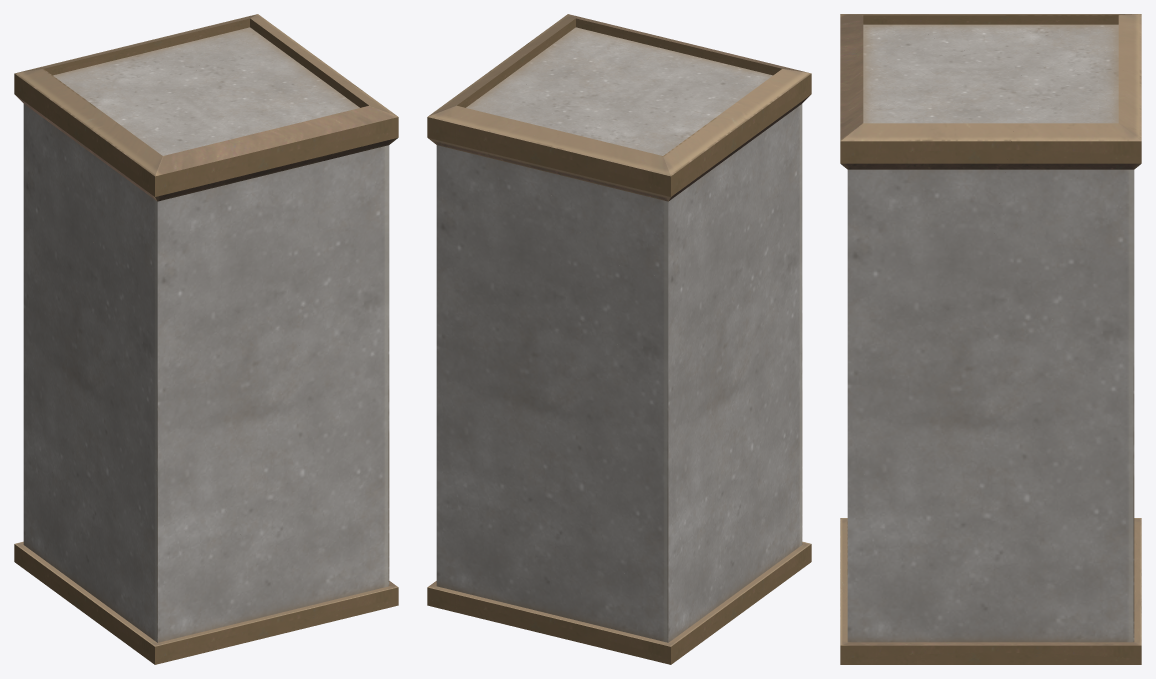
File: RectangleSmallHouse_root.fbx
3 renders of one model, left to right at view 1: azimuth 30°, elevation 25°; view 2: azimuth 150°, elevation 25°; view 3: azimuth 270°, elevation 25°, orthographic. The views are drawn at different scales.
Parts seen in each view (by area): view 1: RectangleSmallHouse_sh_23, RectangleSmallHouse_sh_29, RectangleSmallHouse_sh_15, RectangleSmallHouse_sh_10, RectangleSmallHouse_sh_4, RectangleSmallHouse_sh_19, RectangleSmallHouse_sh_24, RectangleSmallHouse_sh_30, RectangleSmallHouse_sh_22, RectangleSmallHouse_sh_16, RectangleSmallHouse_sh_27, RectangleSmallHouse_sh_13 (+7 smaller); view 2: RectangleSmallHouse_sh_23, RectangleSmallHouse_sh_27, RectangleSmallHouse_sh_13, RectangleSmallHouse_sh_8, RectangleSmallHouse_sh_30, RectangleSmallHouse_sh_11, RectangleSmallHouse_sh_24, RectangleSmallHouse_sh_3, RectangleSmallHouse_sh_18, RectangleSmallHouse_sh_22, RectangleSmallHouse_sh_21, RectangleSmallHouse_sh_2 (+9 smaller); view 3: RectangleSmallHouse_sh_4, RectangleSmallHouse_sh_8, RectangleSmallHouse_sh_9, RectangleSmallHouse_sh_12, RectangleSmallHouse_sh_26, RectangleSmallHouse_sh_2, RectangleSmallHouse_sh_24, RectangleSmallHouse_sh_16, RectangleSmallHouse_sh_15, RectangleSmallHouse_sh_27, RectangleSmallHouse_sh_18, RectangleSmallHouse_sh_14 (+3 smaller).
Boxes of the visible parts, <box> form: RectangleSmallHouse_sh_23: <box>14,449,220,664</box>; RectangleSmallHouse_sh_29: <box>110,265,345,472</box>; RectangleSmallHouse_sh_15: <box>172,300,389,508</box>; RectangleSmallHouse_sh_10: <box>143,173,325,276</box>; RectangleSmallHouse_sh_4: <box>251,54,398,305</box>; RectangleSmallHouse_sh_19: <box>220,445,389,619</box>; RectangleSmallHouse_sh_24: <box>54,54,199,258</box>; RectangleSmallHouse_sh_30: <box>23,182,111,337</box>; RectangleSmallHouse_sh_22: <box>53,317,149,461</box>; RectangleSmallHouse_sh_16: <box>128,87,281,202</box>; RectangleSmallHouse_sh_27: <box>14,38,174,195</box>; RectangleSmallHouse_sh_13: <box>23,291,70,510</box>; RectangleSmallHouse_sh_23: <box>649,373,811,664</box>; RectangleSmallHouse_sh_27: <box>531,126,720,279</box>; RectangleSmallHouse_sh_13: <box>597,376,715,609</box>; RectangleSmallHouse_sh_8: <box>427,70,557,298</box>; RectangleSmallHouse_sh_30: <box>597,234,756,391</box>; RectangleSmallHouse_sh_11: <box>452,190,601,356</box>; RectangleSmallHouse_sh_24: <box>550,86,786,249</box>; RectangleSmallHouse_sh_3: <box>486,466,649,650</box>; RectangleSmallHouse_sh_18: <box>427,546,640,656</box>; RectangleSmallHouse_sh_22: <box>698,288,794,477</box>; RectangleSmallHouse_sh_21: <box>513,362,600,536</box>; RectangleSmallHouse_sh_2: <box>427,449,515,602</box>; RectangleSmallHouse_sh_4: <box>840,104,1018,352</box>; RectangleSmallHouse_sh_8: <box>980,80,1141,331</box>; RectangleSmallHouse_sh_9: <box>915,309,1134,509</box>; RectangleSmallHouse_sh_12: <box>864,364,1062,579</box>; RectangleSmallHouse_sh_26: <box>840,528,1008,664</box>; RectangleSmallHouse_sh_2: <box>1006,495,1141,662</box>; RectangleSmallHouse_sh_24: <box>901,14,1099,92</box>; RectangleSmallHouse_sh_16: <box>840,14,980,106</box>; RectangleSmallHouse_sh_15: <box>847,341,916,481</box>; RectangleSmallHouse_sh_27: <box>1037,14,1141,88</box>; RectangleSmallHouse_sh_18: <box>1006,544,1141,664</box>; RectangleSmallHouse_sh_14: <box>935,38,1062,108</box>.
Bounding box in the file's own units: 210 × 410 × 210.
1 material, 1 textured.
